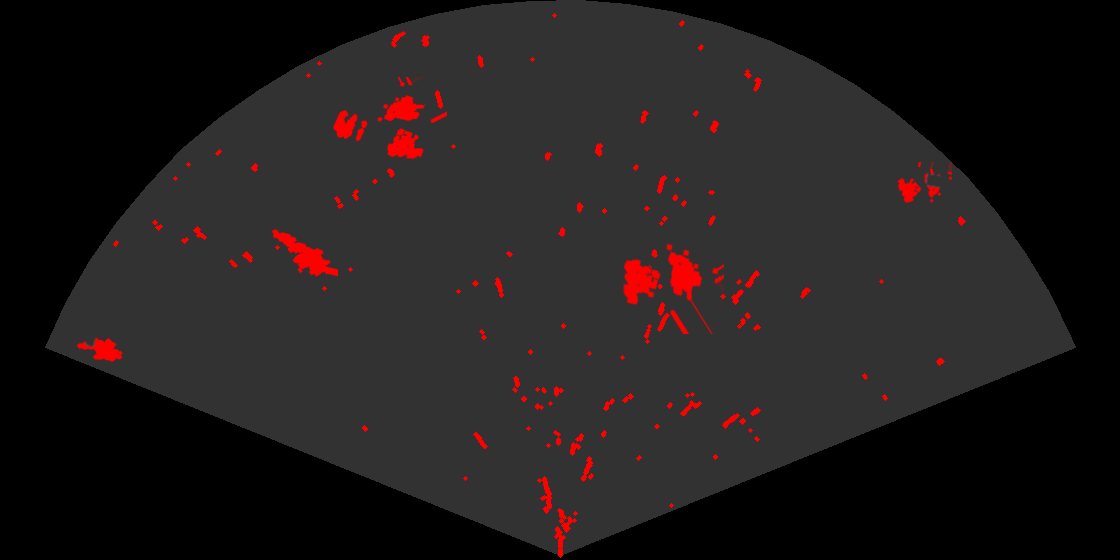AUV: (75, 336, 124, 363)
ball: (332, 108, 369, 143)
cage: (621, 242, 724, 334), (376, 77, 447, 161), (896, 162, 952, 205)
frogman: (270, 228, 338, 278)
